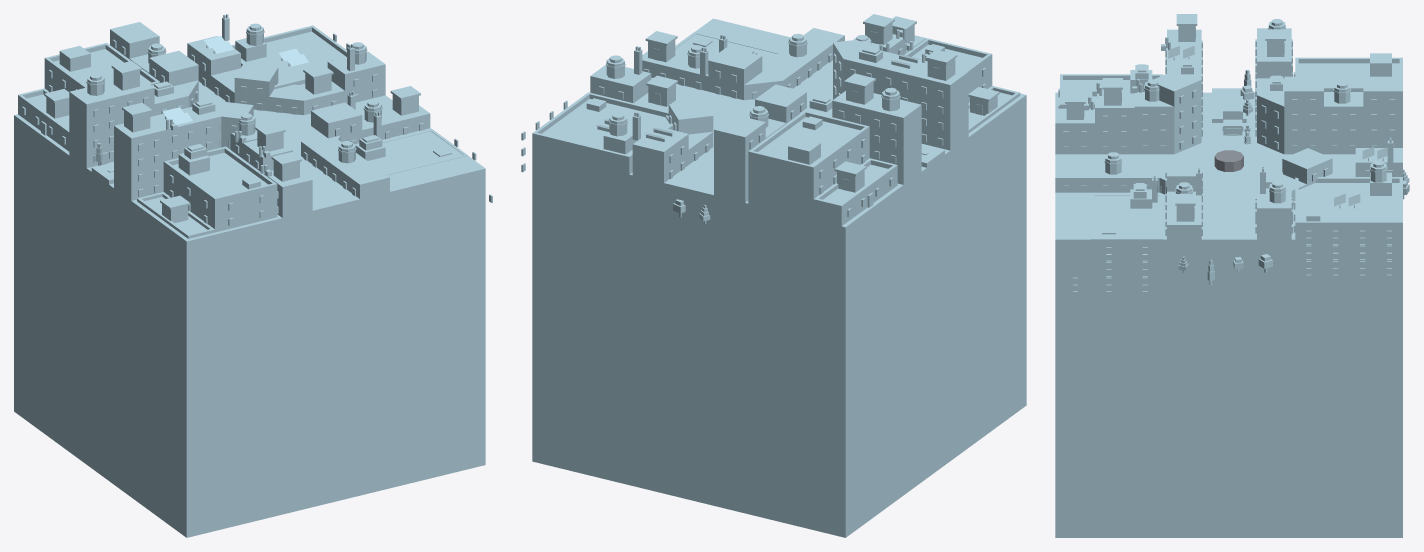
File: block_17_undergroundtanks_100.glb
The picture shows the model from 3 angles, left to right: view 1: azimuth 30°, elevation 25°; view 2: azimuth 150°, elevation 25°; view 3: azimuth 270°, elevation 25°; orthographic projection. The views are drawn at different scales.
Parts seen in each view (by area): view 1: Patch_MidRight_b15_UT, Cerda_MidRight_b15_UT, Insets_MidRight_b15_UT, CerdaRoofProps_MidRight_b15_UT; view 2: Patch_MidRight_b15_UT, Cerda_MidRight_b15_UT, Insets_MidRight_b15_UT, CerdaRoofProps_MidRight_b15_UT; view 3: Patch_MidRight_b15_UT, Cerda_MidRight_b15_UT, Insets_MidRight_b15_UT, CerdaRoofProps_MidRight_b15_UT, Asset_Truck.009_UT, Roads_MidRight_b15_UT, UT_TankUnit_17.
Part boxes in pixels (x1=…): Patch_MidRight_b15_UT: x1=14, y1=81, x2=485, y2=537; Cerda_MidRight_b15_UT: x1=69, y1=22, x2=430, y2=250; Insets_MidRight_b15_UT: x1=18, y1=25, x2=492, y2=238; CerdaRoofProps_MidRight_b15_UT: x1=44, y1=14, x2=420, y2=222; Patch_MidRight_b15_UT: x1=532, y1=18, x2=1026, y2=537; Cerda_MidRight_b15_UT: x1=590, y1=28, x2=968, y2=233; Insets_MidRight_b15_UT: x1=521, y1=32, x2=1020, y2=236; CerdaRoofProps_MidRight_b15_UT: x1=595, y1=14, x2=999, y2=192; Patch_MidRight_b15_UT: x1=1055, y1=92, x2=1402, y2=537; Cerda_MidRight_b15_UT: x1=1055, y1=28, x2=1402, y2=289; Insets_MidRight_b15_UT: x1=1058, y1=53, x2=1402, y2=291; CerdaRoofProps_MidRight_b15_UT: x1=1065, y1=14, x2=1393, y2=221; Asset_Truck.009_UT: x1=1222, y1=96, x2=1243, y2=135; Roads_MidRight_b15_UT: x1=1212, y1=88, x2=1246, y2=289; UT_TankUnit_17: x1=1214, y1=150, x2=1243, y2=171.
Bounding box in the file's own units: 10 × 11.5 × 9.68.
